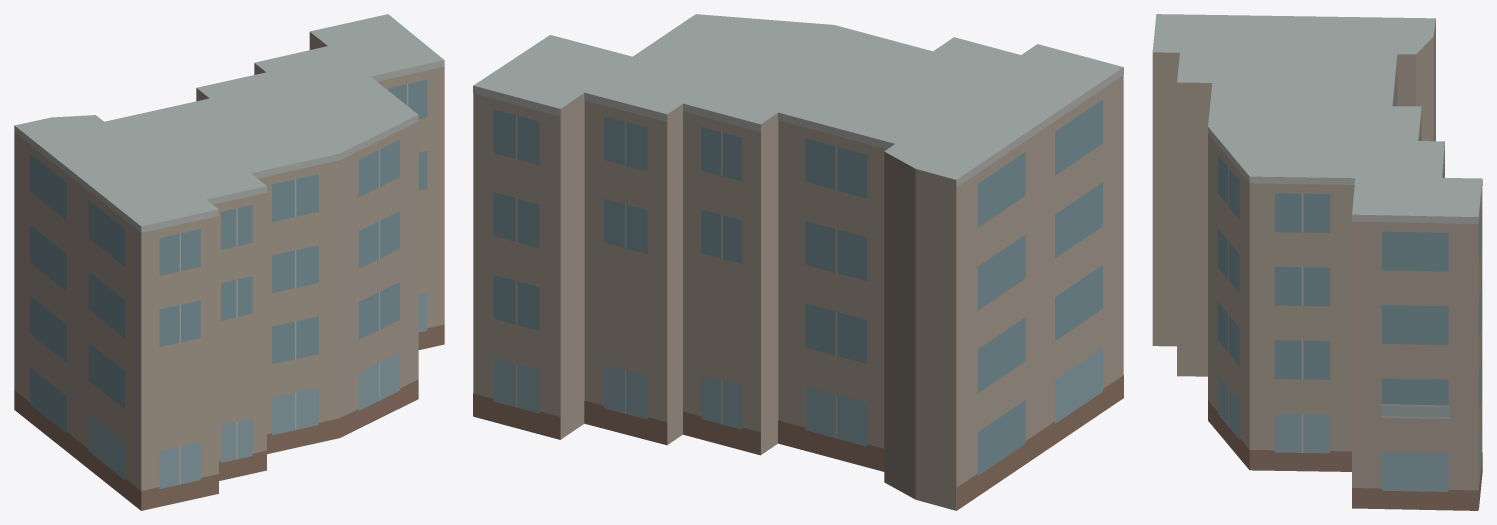
File: survey-upis-32770189.glb
3 renders of one model, left to right at view 1: azimuth 30°, elevation 25°; view 2: azimuth 150°, elevation 25°; view 3: azimuth 270°, elevation 25°, orthographic. The views are drawn at different scales.
Parts seen in each view (by area): view 1: survey-upis-32770189.tmp; view 2: survey-upis-32770189.tmp; view 3: survey-upis-32770189.tmp.
Part boxes in pixels (x1,y1,x2,y2): survey-upis-32770189.tmp: (14,14,444,510); survey-upis-32770189.tmp: (473,14,1123,510); survey-upis-32770189.tmp: (1152,14,1482,510).
Bounding box in the file's own units: 15.58 × 10.5 × 10.7.
